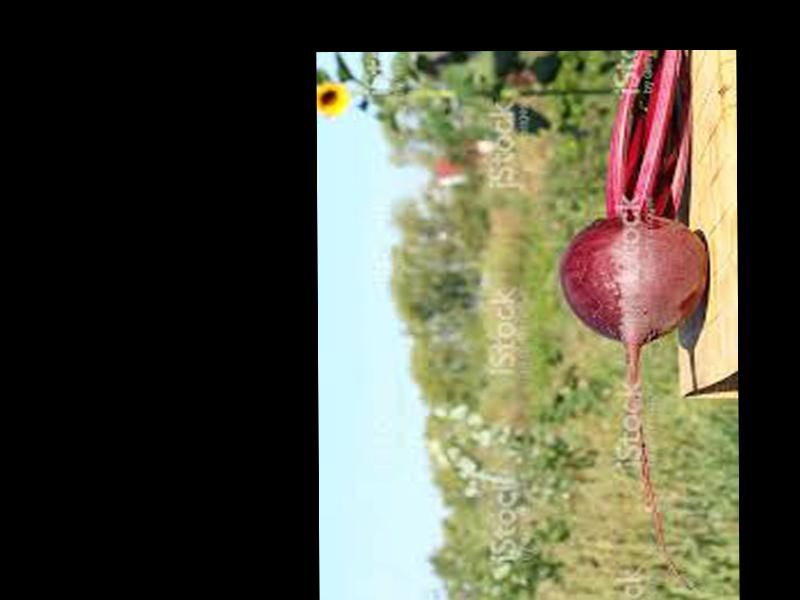Beet: (559, 49, 710, 590)
